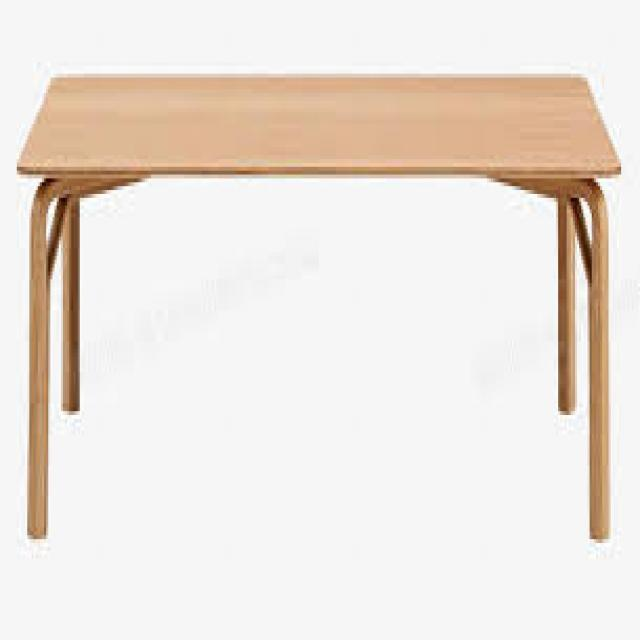Table: (11, 53, 625, 558)
